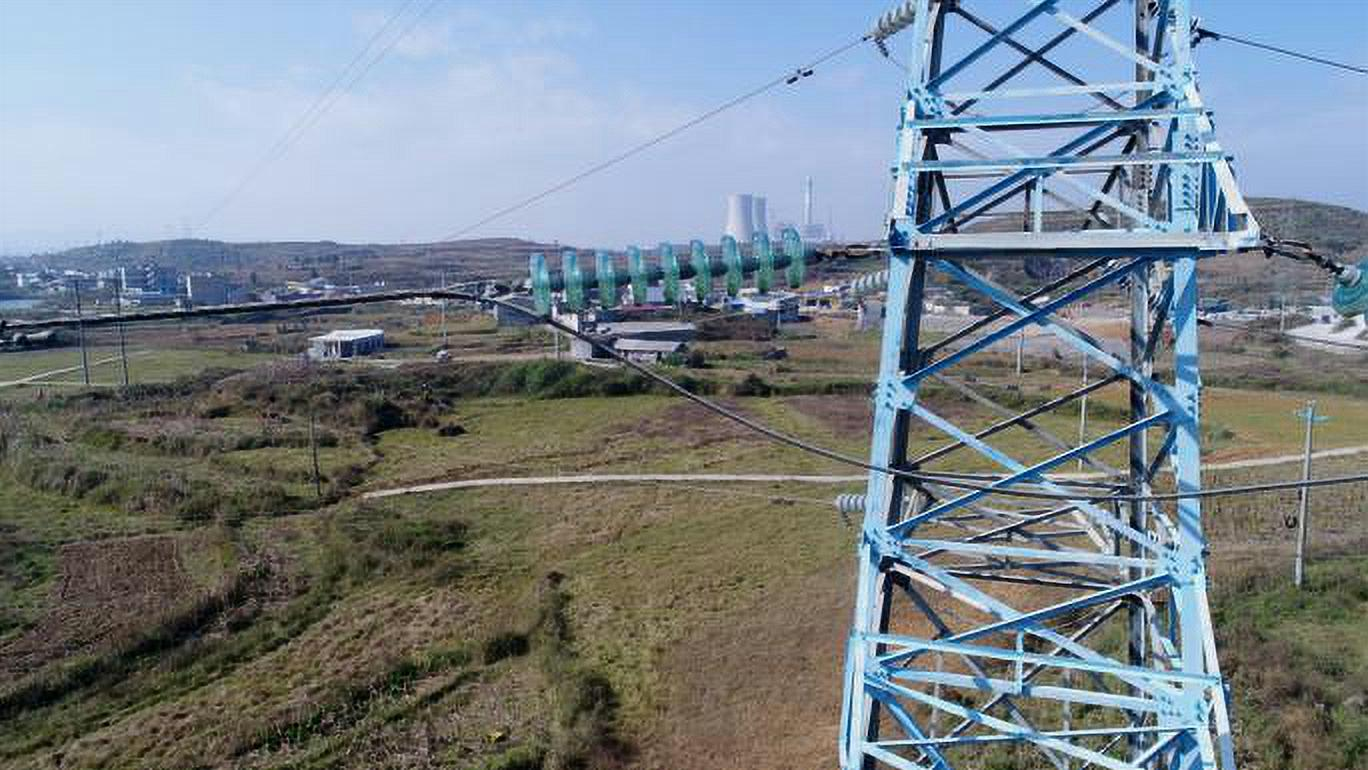insulator: (521, 222, 810, 322)
